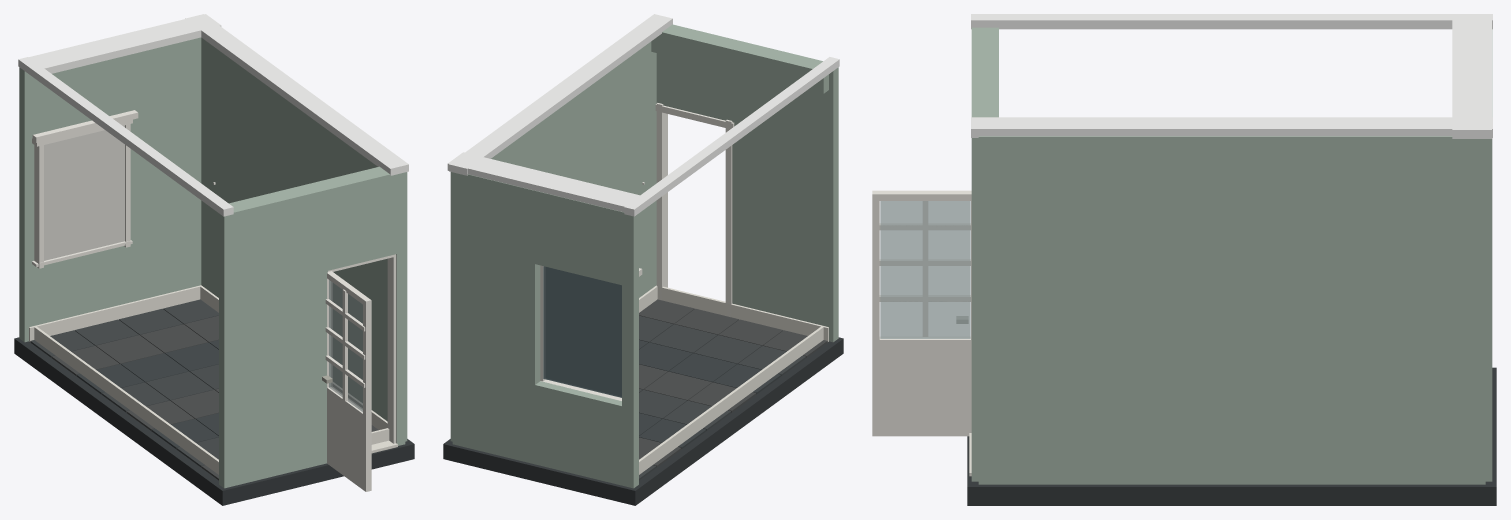
File: habitacion_vacia_base.glb
3 renders of one model, left to right at view 1: azimuth 30°, elevation 25°; view 2: azimuth 150°, elevation 25°; view 3: azimuth 270°, elevation 25°, orthographic. The views are drawn at different scales.
Parts seen in each view (by area): view 1: pared_entrada_izquierda_vacia, pared_larga_derecha_vacia, pared_fondo_derecha_vacia, persiana_ventana_vacia, base_suelo_vacia, pared_entrada_sobre_puerta_vacia, pared_bajo_ventana_vacia, techo_blanco_derecho_vacio, pared_sobre_ventana_vacia, techo_blanco_fondo_vacio, viga_superior_divisoria, pilar_divisorio_fondo (+32 smaller); view 2: pared_fondo_derecha_vacia, pared_entrada_izquierda_vacia, pared_larga_derecha_vacia, cristal_ventana_vacia, base_suelo_vacia, pared_bajo_ventana_vacia, pared_sobre_ventana_vacia, techo_blanco_derecho_vacio, pared_entrada_viga_superior_vacia, pared_entrada_sobre_puerta_vacia, techo_blanco_fondo_vacio, viga_superior_divisoria (+25 smaller); view 3: pared_larga_derecha_vacia, cristales_puerta_vacia, base_suelo_vacia, techo_blanco_derecho_vacio, hoja_puerta_vacia_inferior, viga_superior_divisoria, techo_blanco_fondo_vacio, pared_fondo_derecha_vacia, pared_entrada_derecha_vacia, hoja_puerta_vacia_derecho, pared_entrada_viga_superior_vacia, hoja_puerta_vacia_superior (+3 smaller).
Part boxes in pixels (x1,y1,x2,y2): pared_entrada_izquierda_vacia: [228, 186, 327, 486]; pared_larga_derecha_vacia: [201, 38, 407, 441]; pared_fondo_derecha_vacia: [123, 37, 201, 303]; persiana_ventana_vacia: [44, 125, 124, 260]; base_suelo_vacia: [14, 337, 414, 505]; pared_entrada_sobre_puerta_vacia: [323, 170, 396, 270]; pared_bajo_ventana_vacia: [36, 246, 123, 325]; techo_blanco_derecho_vacio: [185, 14, 408, 175]; pared_sobre_ventana_vacia: [36, 56, 123, 133]; techo_blanco_fondo_vacio: [19, 14, 221, 77]; viga_superior_divisoria: [18, 57, 233, 216]; pilar_divisorio_fondo: [19, 67, 32, 342]; pared_fondo_derecha_vacia: [452, 172, 540, 464]; pared_entrada_izquierda_vacia: [729, 39, 828, 326]; pared_larga_derecha_vacia: [450, 41, 656, 441]; cristal_ventana_vacia: [543, 266, 621, 397]; base_suelo_vacia: [443, 337, 843, 505]; pared_bajo_ventana_vacia: [535, 381, 621, 485]; pared_sobre_ventana_vacia: [535, 191, 621, 285]; techo_blanco_derecho_vacio: [449, 14, 672, 175]; pared_entrada_viga_superior_vacia: [651, 28, 828, 93]; pared_entrada_sobre_puerta_vacia: [660, 24, 734, 120]; techo_blanco_fondo_vacio: [447, 152, 649, 212]; viga_superior_divisoria: [624, 57, 839, 216]; pared_larga_derecha_vacia: [978, 136, 1485, 484]; cristales_puerta_vacia: [880, 201, 970, 338]; base_suelo_vacia: [967, 367, 1496, 505]; techo_blanco_derecho_vacio: [971, 117, 1492, 137]; hoja_puerta_vacia_inferior: [874, 336, 971, 436]; viga_superior_divisoria: [971, 14, 1492, 29]; techo_blanco_fondo_vacio: [1452, 14, 1491, 138]; pared_fondo_derecha_vacia: [1485, 83, 1492, 481]; pared_entrada_derecha_vacia: [971, 138, 978, 481]; hoja_puerta_vacia_derecho: [872, 190, 879, 436]; pared_entrada_viga_superior_vacia: [985, 27, 998, 117]; hoja_puerta_vacia_superior: [874, 190, 971, 200].
Bounding box in the file's own units: 2.28 × 3.34 × 5.05.
